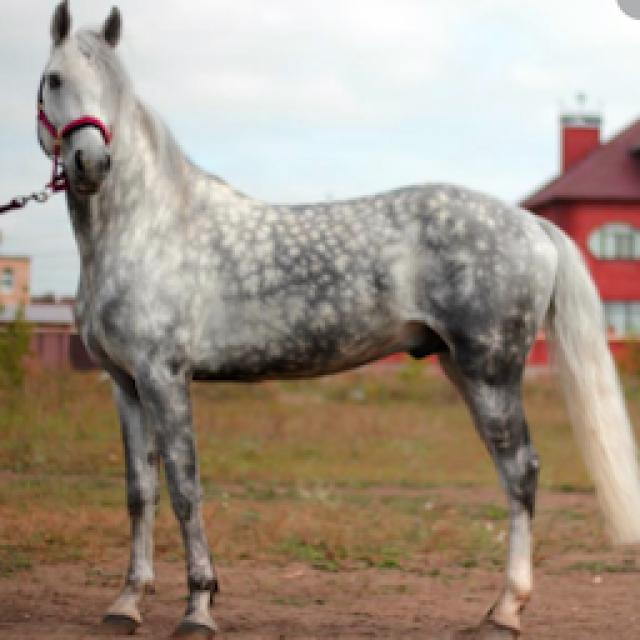Horse: (28, 0, 638, 638)
